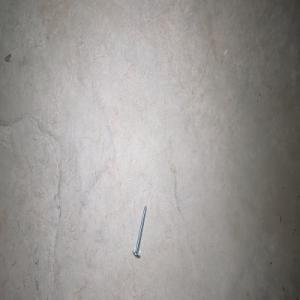Bolt: (132, 204, 147, 257)
